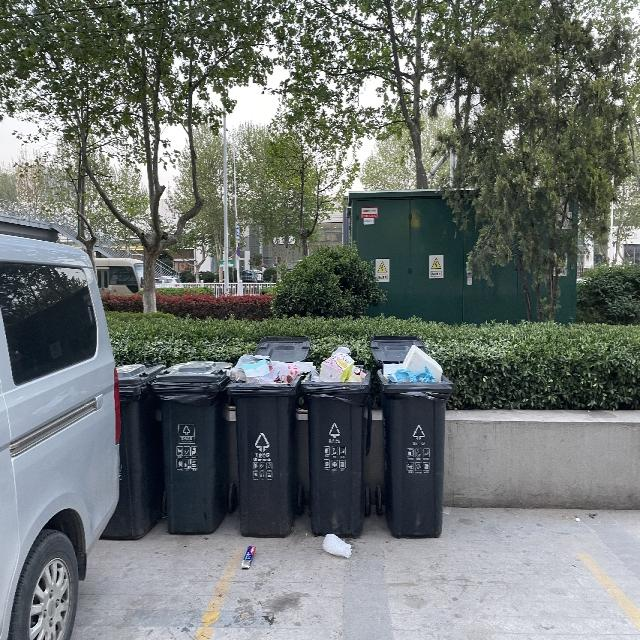garbage: (322, 533, 350, 558), (241, 545, 254, 567)
garbage_bin: (152, 360, 231, 534), (97, 364, 166, 540)
overflow: (226, 353, 312, 536), (376, 344, 452, 537), (300, 345, 370, 537)
